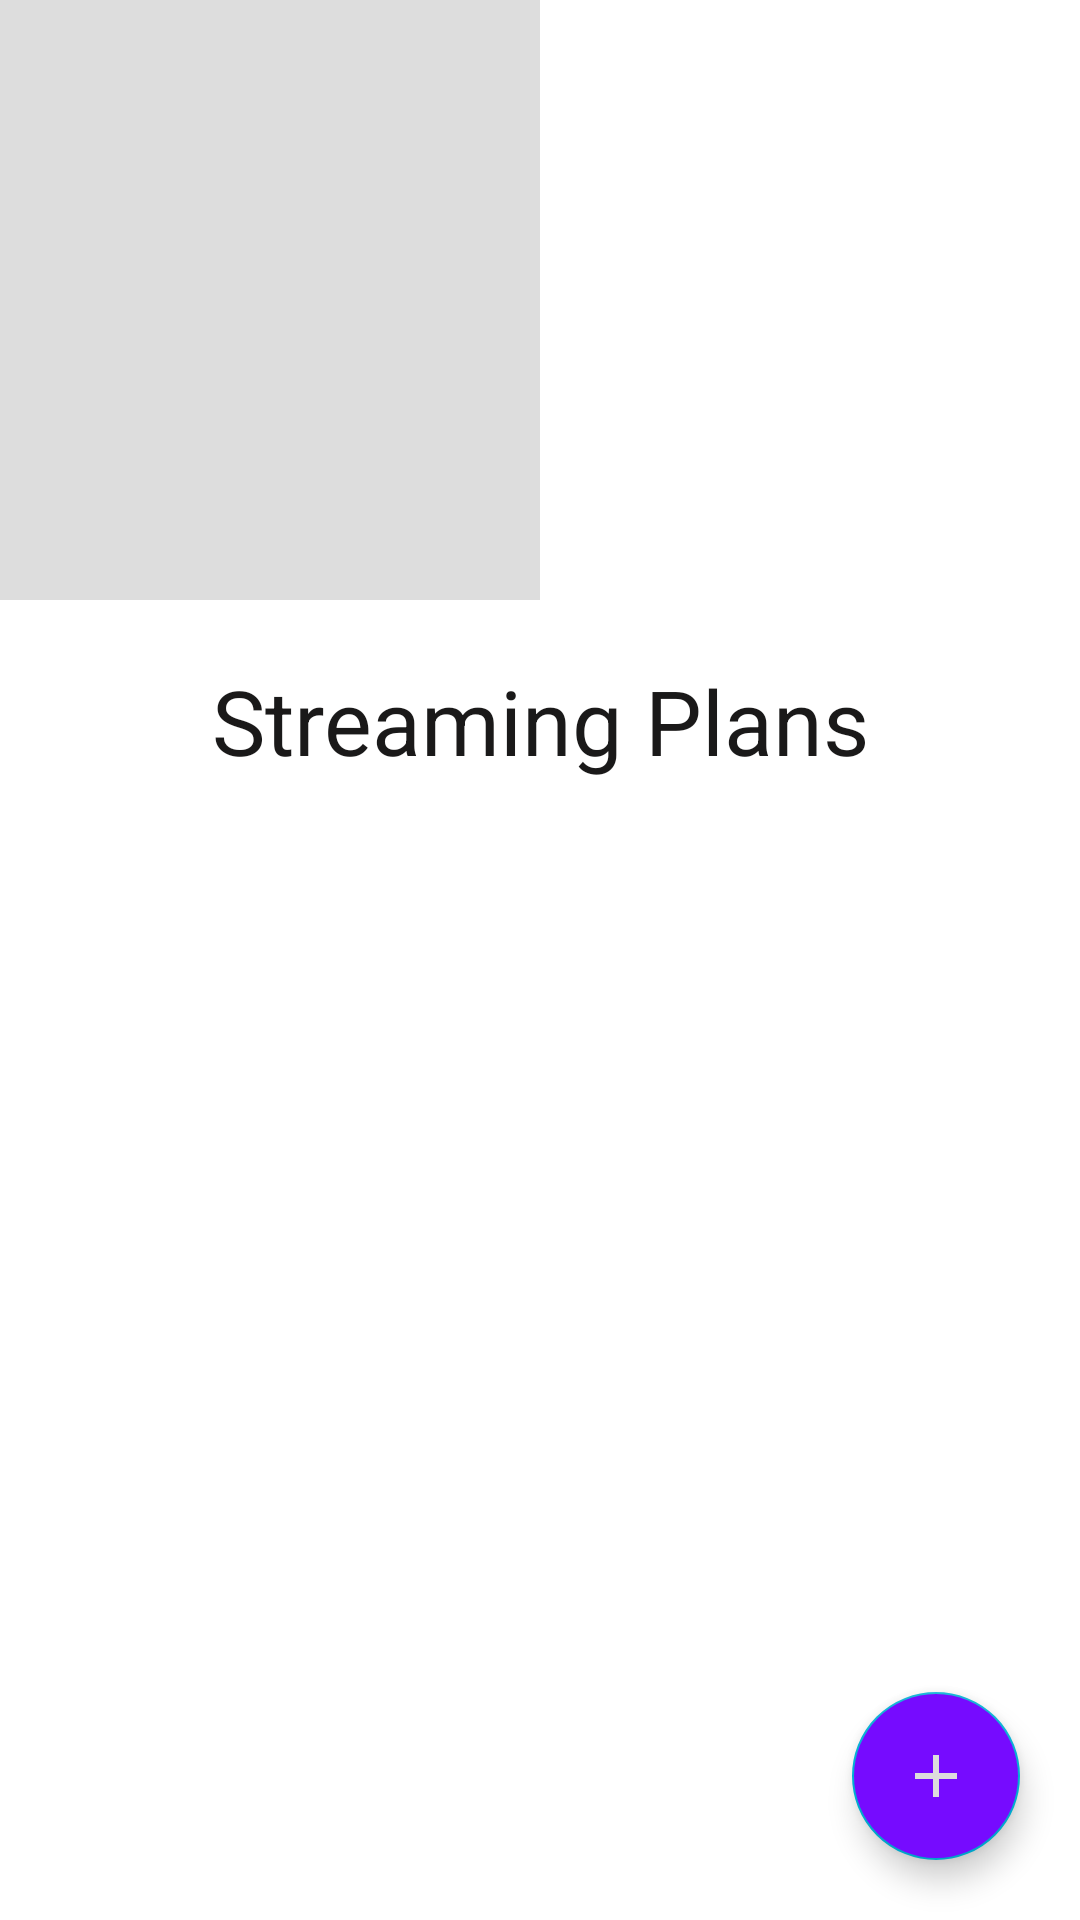

Screen size 1080 x 1920. Icon name, then its center in pixels as point (x, y):
Add Stream Category: point (936, 1776)
